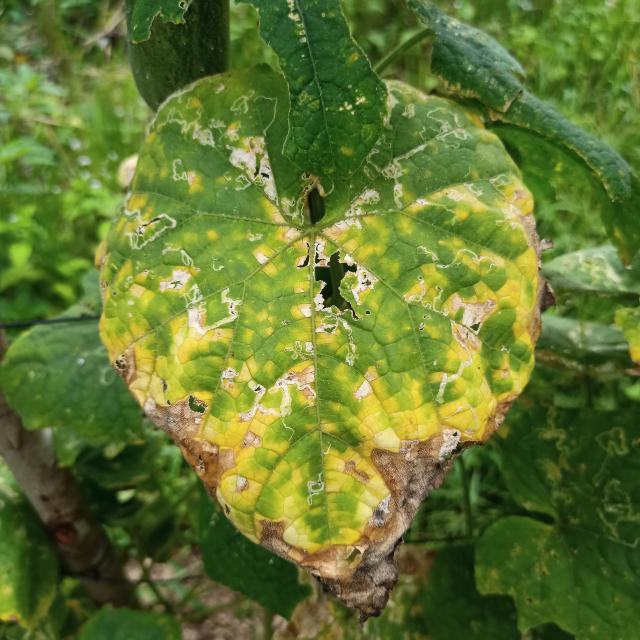disease_cucumber: (80, 78, 542, 596), (369, 496, 392, 526), (440, 428, 459, 458), (351, 379, 372, 401)
